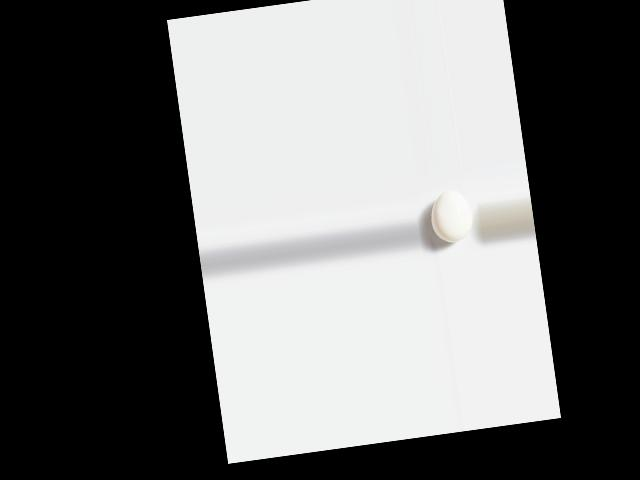egg: (427, 188, 475, 245)
